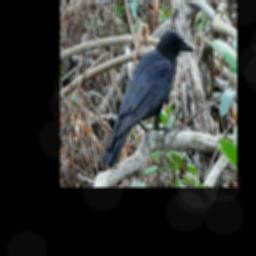Crow: (100, 29, 195, 170)
